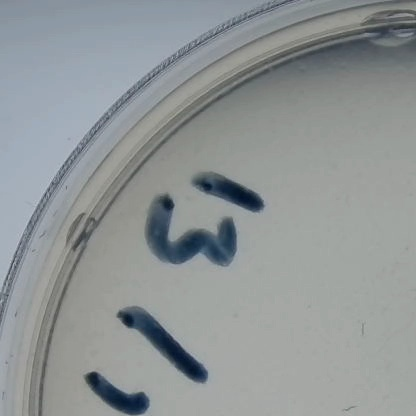worm: (349, 320, 373, 350), (398, 286, 416, 309), (337, 404, 362, 416)
